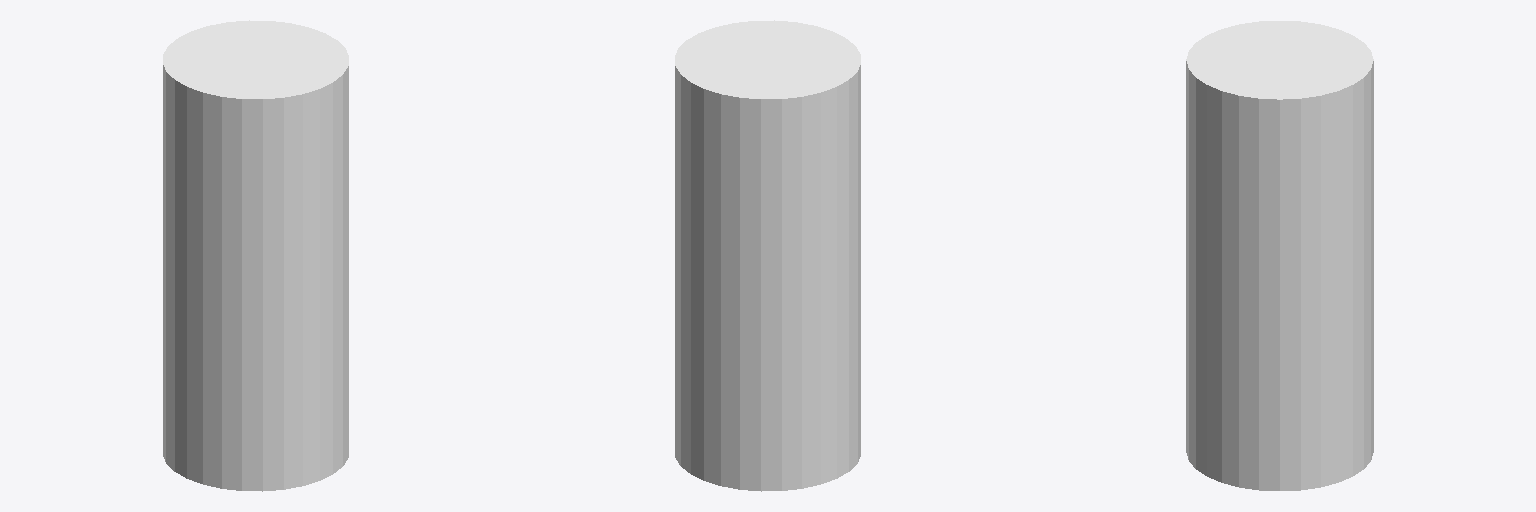
The robot description file, URDF, robot "dicecup":
<?xml version="1.0" encoding="utf-8"?>
<!-- This URDF was automatically created by SolidWorks to URDF Exporter! Originally created by [author] ([email redacted]) 
     Commit Version: 1.6.0-4-g7f85cfe  Build Version: 1.6.7995.38578
     For more information, please see http://wiki.ros.org/sw_urdf_exporter -->
<robot
  name="dicecup">
  <link
    name="base_link">
    <inertial>
      <origin
        xyz="2.2699E-50 7.034E-19 0.075"
        rpy="0 0 0" />
      <mass
        value="0.13684" />
      <inertia
        ixx="0.00042396"
        ixy="7.5691E-37"
        ixz="-9.7244E-37"
        iyy="0.00042396"
        iyz="-1.8941E-20"
        izz="0.00011463" />
    </inertial>
    <visual>
      <origin
        xyz="0 0 0"
        rpy="0 0 0" />
      <geometry>
        <mesh
          filename="package://dicecup/meshes/base_link.STL" />
      </geometry>
      <material
        name="">
        <color
          rgba="1 1 1 0.875" />
      </material>
    </visual>
    <collision>
      <origin
        xyz="0 0 0"
        rpy="0 0 0" />
      <geometry>
        <mesh
          filename="package://dicecup/meshes/base_link.STL" />
      </geometry>
    </collision>
  </link>
</robot>

--- Facts derived from the render (not from the file) ---
The picture shows the robot from 3 angles, left to right: view 1: azimuth 30°, elevation 25°; view 2: azimuth 150°, elevation 25°; view 3: azimuth 270°, elevation 25°; orthographic projection.
Robot: dicecup — 1 links, 0 joints (none); root link base_link; default pose: all joints at 0.
Visible links, largest first — view 1: base_link; view 2: base_link; view 3: base_link.
Link boxes in pixels (<box>): base_link: <box>163,20,348,491</box>; base_link: <box>675,20,860,491</box>; base_link: <box>1186,21,1373,490</box>.
Bounding box of the posed robot: 0.065 × 0.065 × 0.15 m (x, y, z).
1 mesh visuals loaded from 1 distinct referenced files (1 binary STL).
